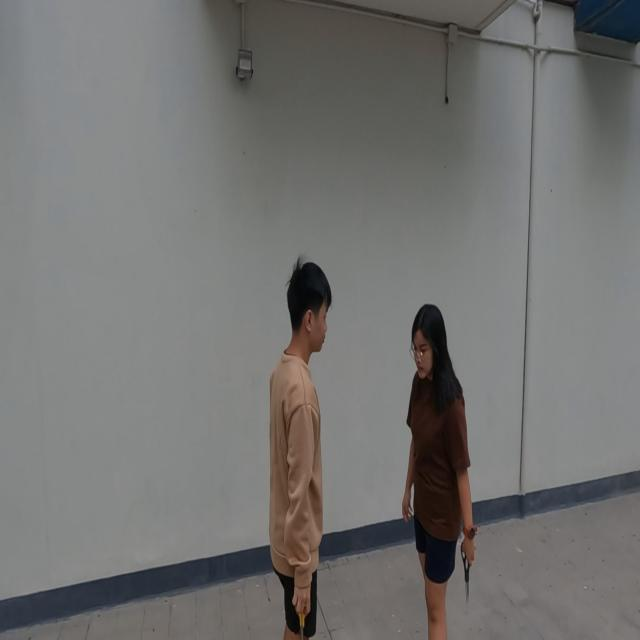scissor: (461, 542, 472, 605), (296, 602, 308, 640)
